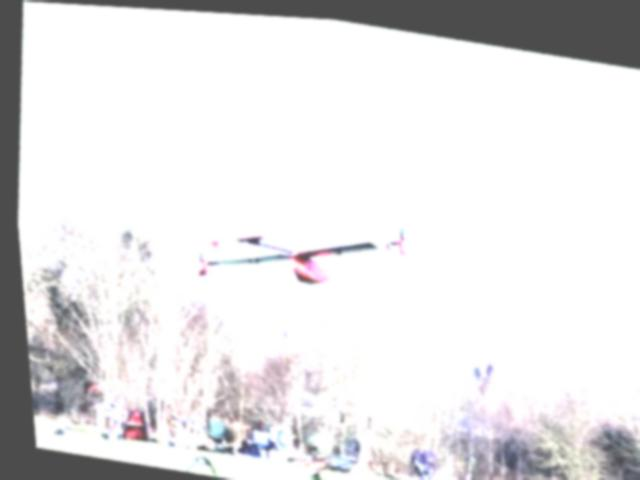uav: (179, 186, 427, 320)
